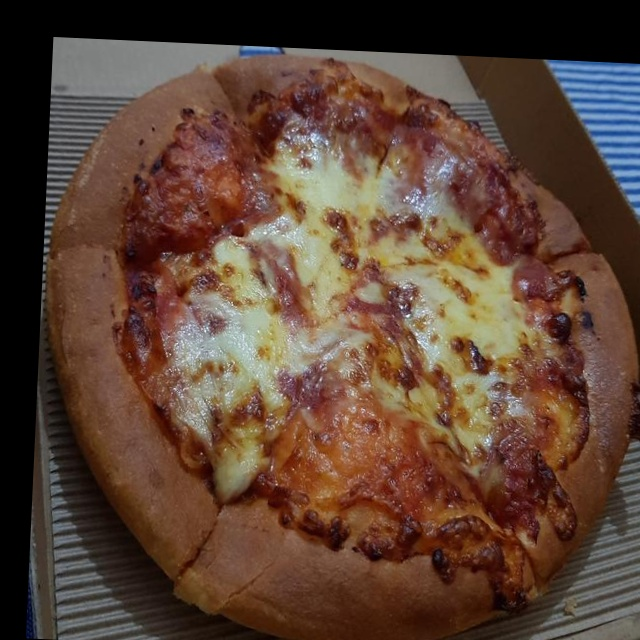Pizza - Cheese Lovers: (29, 45, 640, 640)
